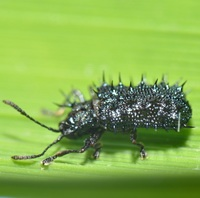insect: (3, 72, 191, 164)
